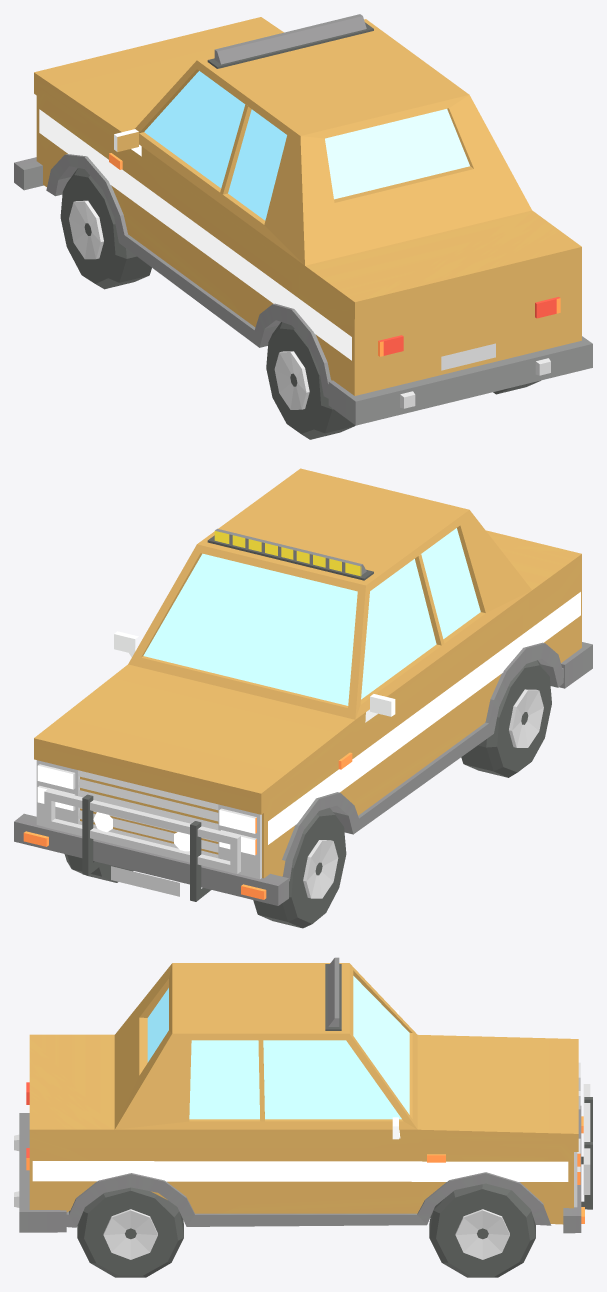
The model's file is transport_jeep.glb.
3 views of the same model, one above another, from view 1: azimuth 30°, elevation 25°; view 2: azimuth 150°, elevation 25°; view 3: azimuth 270°, elevation 25° (orthographic). The views are drawn at different scales.
Visible parts, largest first — view 1: transport_jeep(Clone); view 2: transport_jeep(Clone); view 3: transport_jeep(Clone).
Boxes of the visible parts, bbox=[...] form: transport_jeep(Clone): bbox=[14, 14, 592, 439]; transport_jeep(Clone): bbox=[14, 468, 592, 928]; transport_jeep(Clone): bbox=[14, 957, 592, 1277].
Bounding box in the file's own units: 1.79 × 1.76 × 3.77.
Materials: 1 (1 with a texture image).
